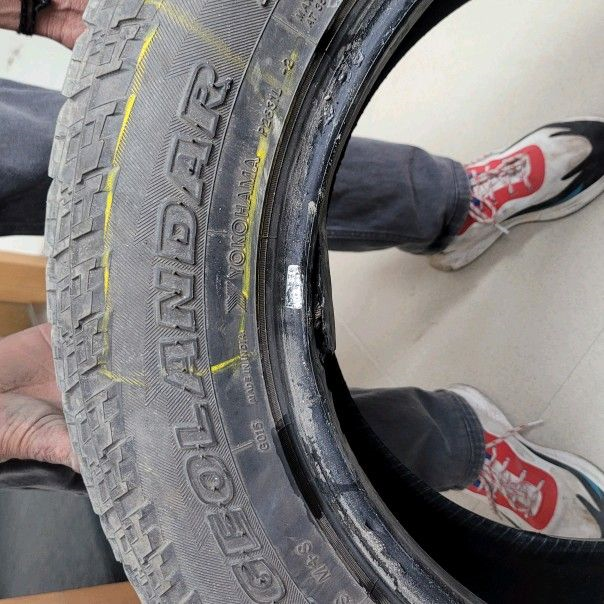bead_damage: (293, 186, 360, 466)
